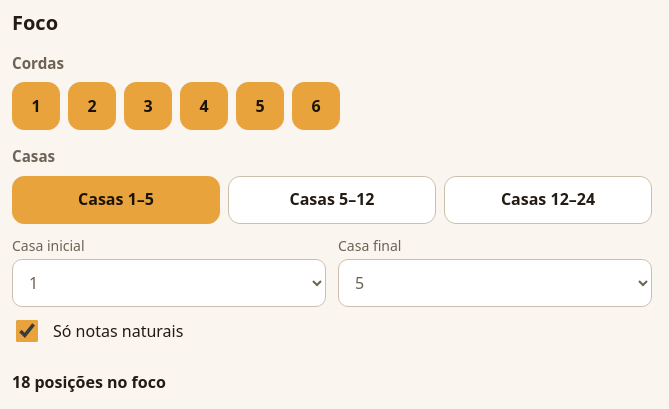
it: Focus › keeps the range ordered when one end crosses the other
Step 1. Click the button "Casas 5–12" → coordinates (332, 200), box [228,176,436,224]
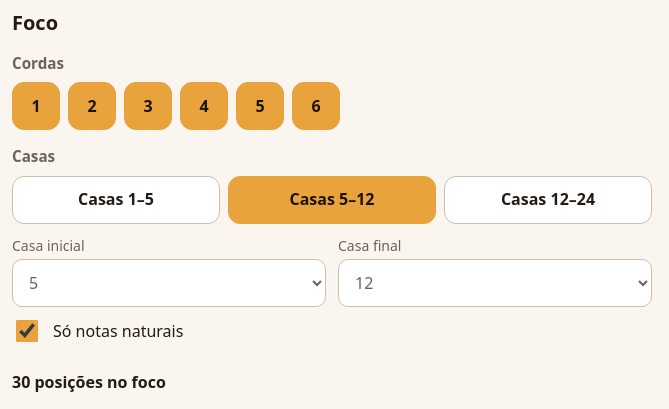
Step 2. Select "2" in the dropdown labelled "Casa final" → coordinates (495, 283), box [338,259,652,307]
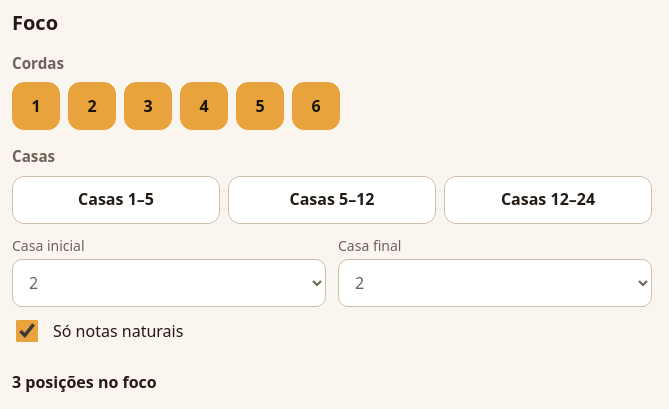
Expected: the dropdown labelled "Casa inicial" shows "2", [12,259,326,307]
